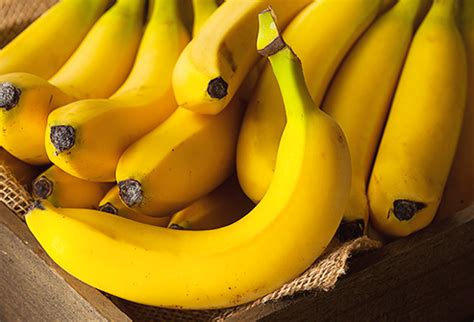banana: (30, 102, 356, 319), (43, 1, 198, 185), (366, 5, 474, 245), (1, 1, 149, 167), (169, 1, 292, 120)
